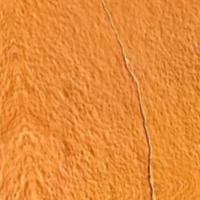crack: (102, 28, 172, 199)
